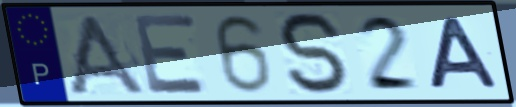2: (351, 14, 420, 92)
6: (213, 12, 276, 96)
A: (62, 11, 152, 97), (425, 15, 503, 91)
E: (129, 12, 211, 96)
S: (274, 10, 355, 97)
